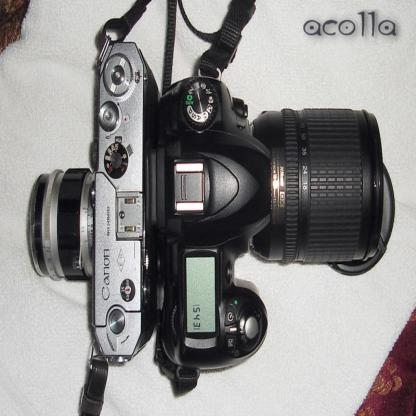Camera: (28, 40, 396, 396)
